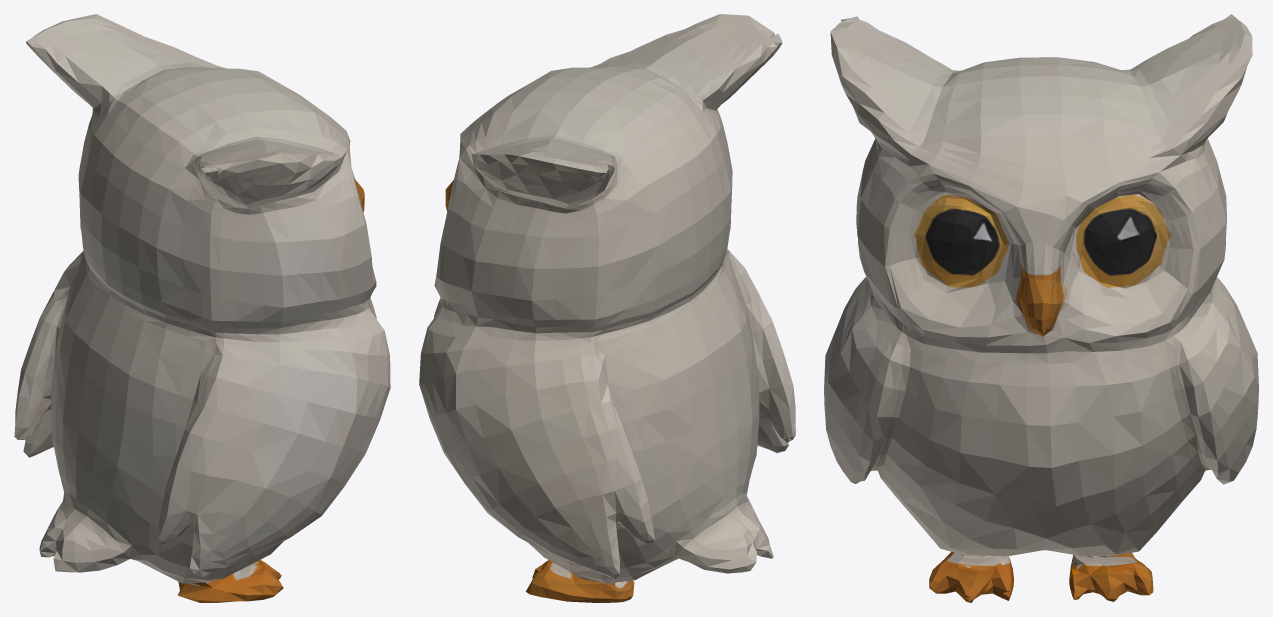
The model's file is BuhoBlancoTJS.glb.
3 views of the same model, side by side, from view 1: azimuth 30°, elevation 25°; view 2: azimuth 150°, elevation 25°; view 3: azimuth 270°, elevation 25° (orthographic). The views are drawn at different scales.
Visible parts, largest first — view 1: tripo_node_f6349475-52f6-4df8-8a9b-d8ea0ca8d3d6; view 2: tripo_node_f6349475-52f6-4df8-8a9b-d8ea0ca8d3d6; view 3: tripo_node_f6349475-52f6-4df8-8a9b-d8ea0ca8d3d6.
Part boxes in pixels (<box>): tripo_node_f6349475-52f6-4df8-8a9b-d8ea0ca8d3d6: <box>14,14,390,602</box>; tripo_node_f6349475-52f6-4df8-8a9b-d8ea0ca8d3d6: <box>419,14,795,602</box>; tripo_node_f6349475-52f6-4df8-8a9b-d8ea0ca8d3d6: <box>824,14,1258,602</box>.
Bounding box in the file's own units: 0.6795 × 0.9991 × 0.7447.
Materials: 1 (1 with a texture image).
